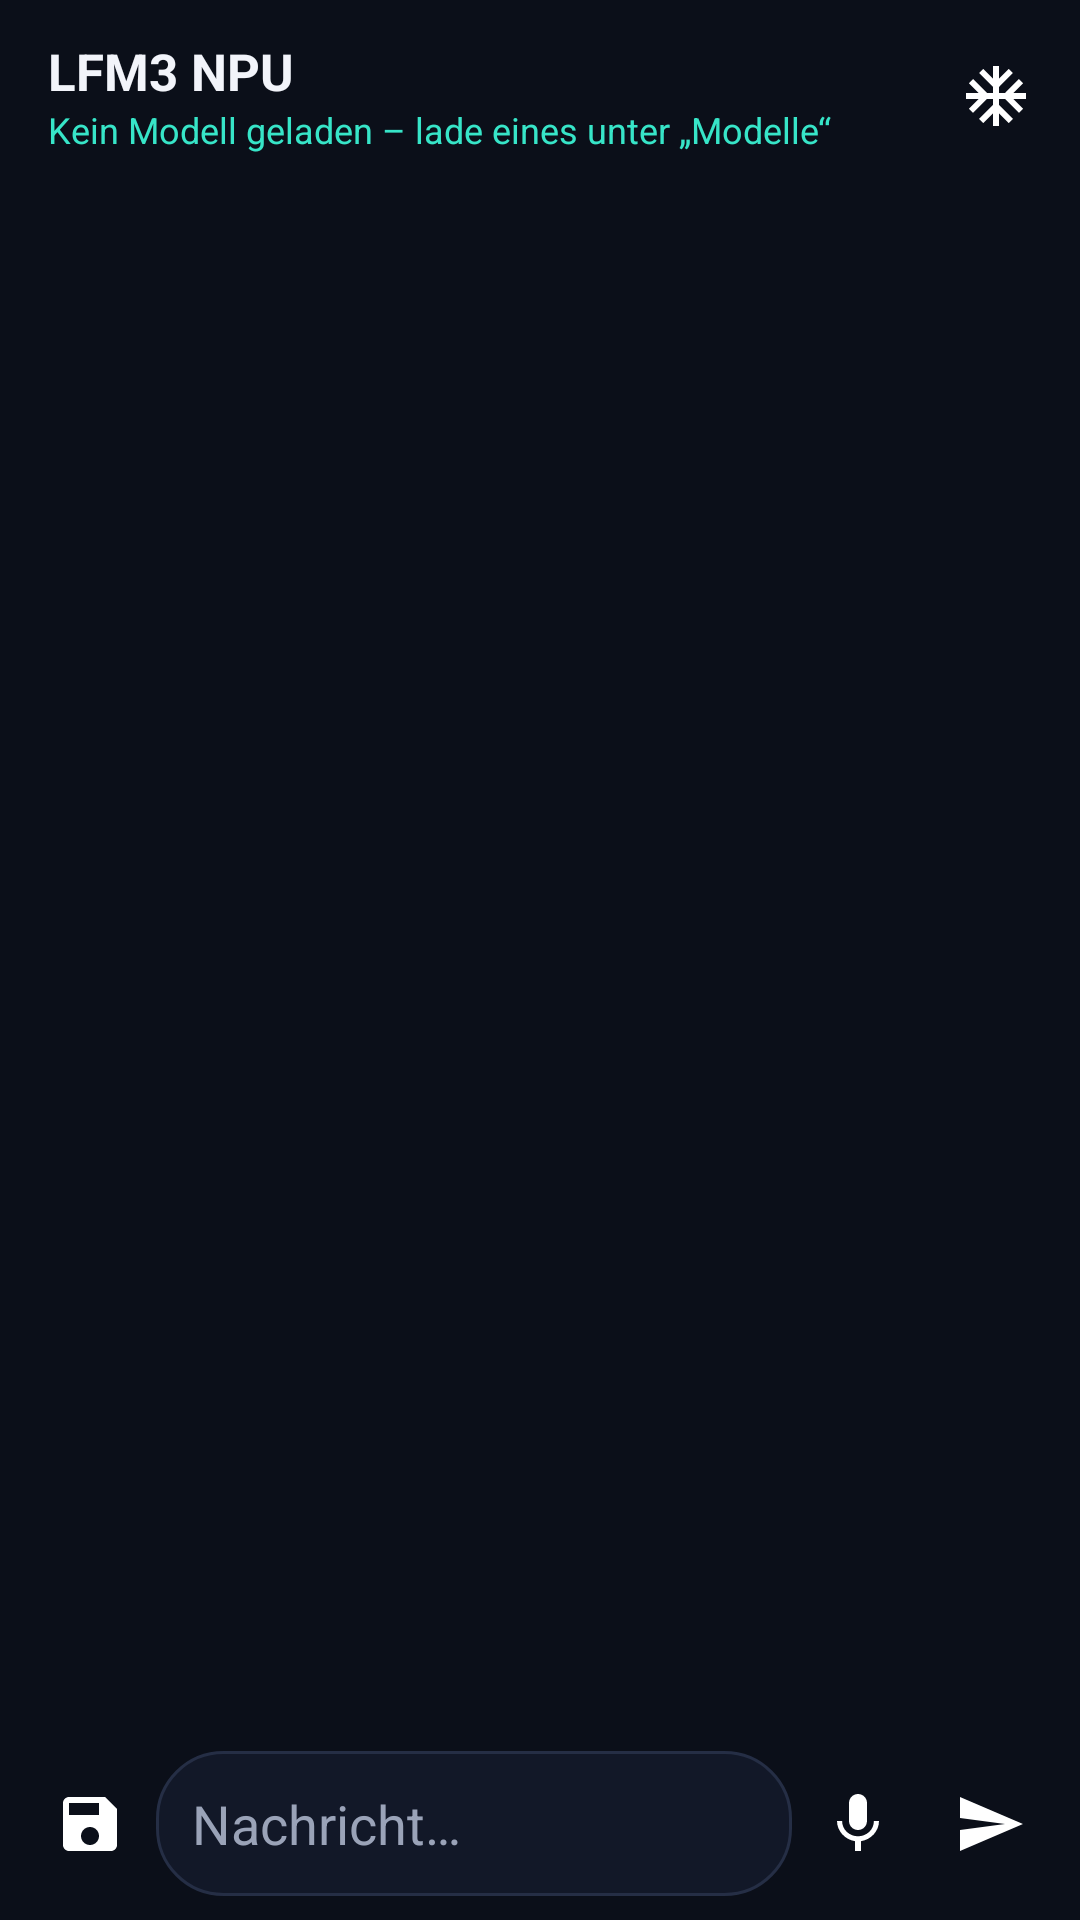

Named icons in this screenshot (1080×1920) and their bounding boxes, box=[x1, y1, x2, y2]:
Senden: box=[960, 1797, 1023, 1851]
Spracheingabe: box=[837, 1794, 879, 1851]
